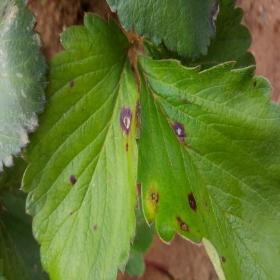Leaf Spot: (135, 54, 279, 279), (20, 12, 139, 279), (106, 0, 219, 60)
